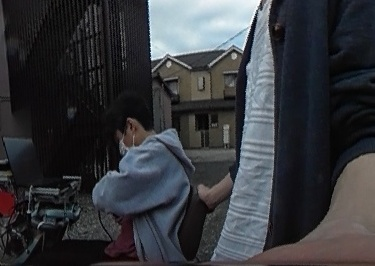person: (49, 92, 191, 266)
